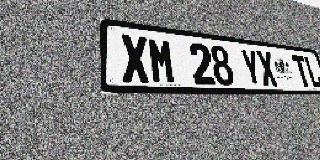2: (188, 42, 216, 85)
8: (209, 44, 235, 85)
L: (303, 56, 320, 88)
M: (147, 37, 177, 84)
T: (291, 55, 312, 87)
X: (120, 34, 151, 83), (255, 50, 279, 87)
Y: (239, 48, 264, 86)
